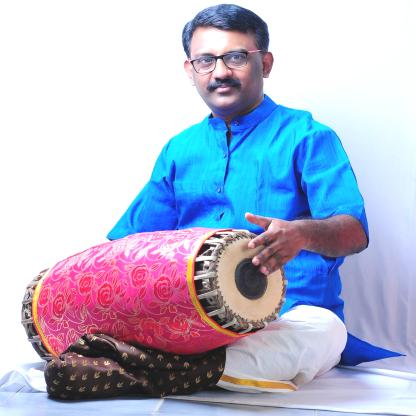Mridangam: (18, 227, 289, 373)
